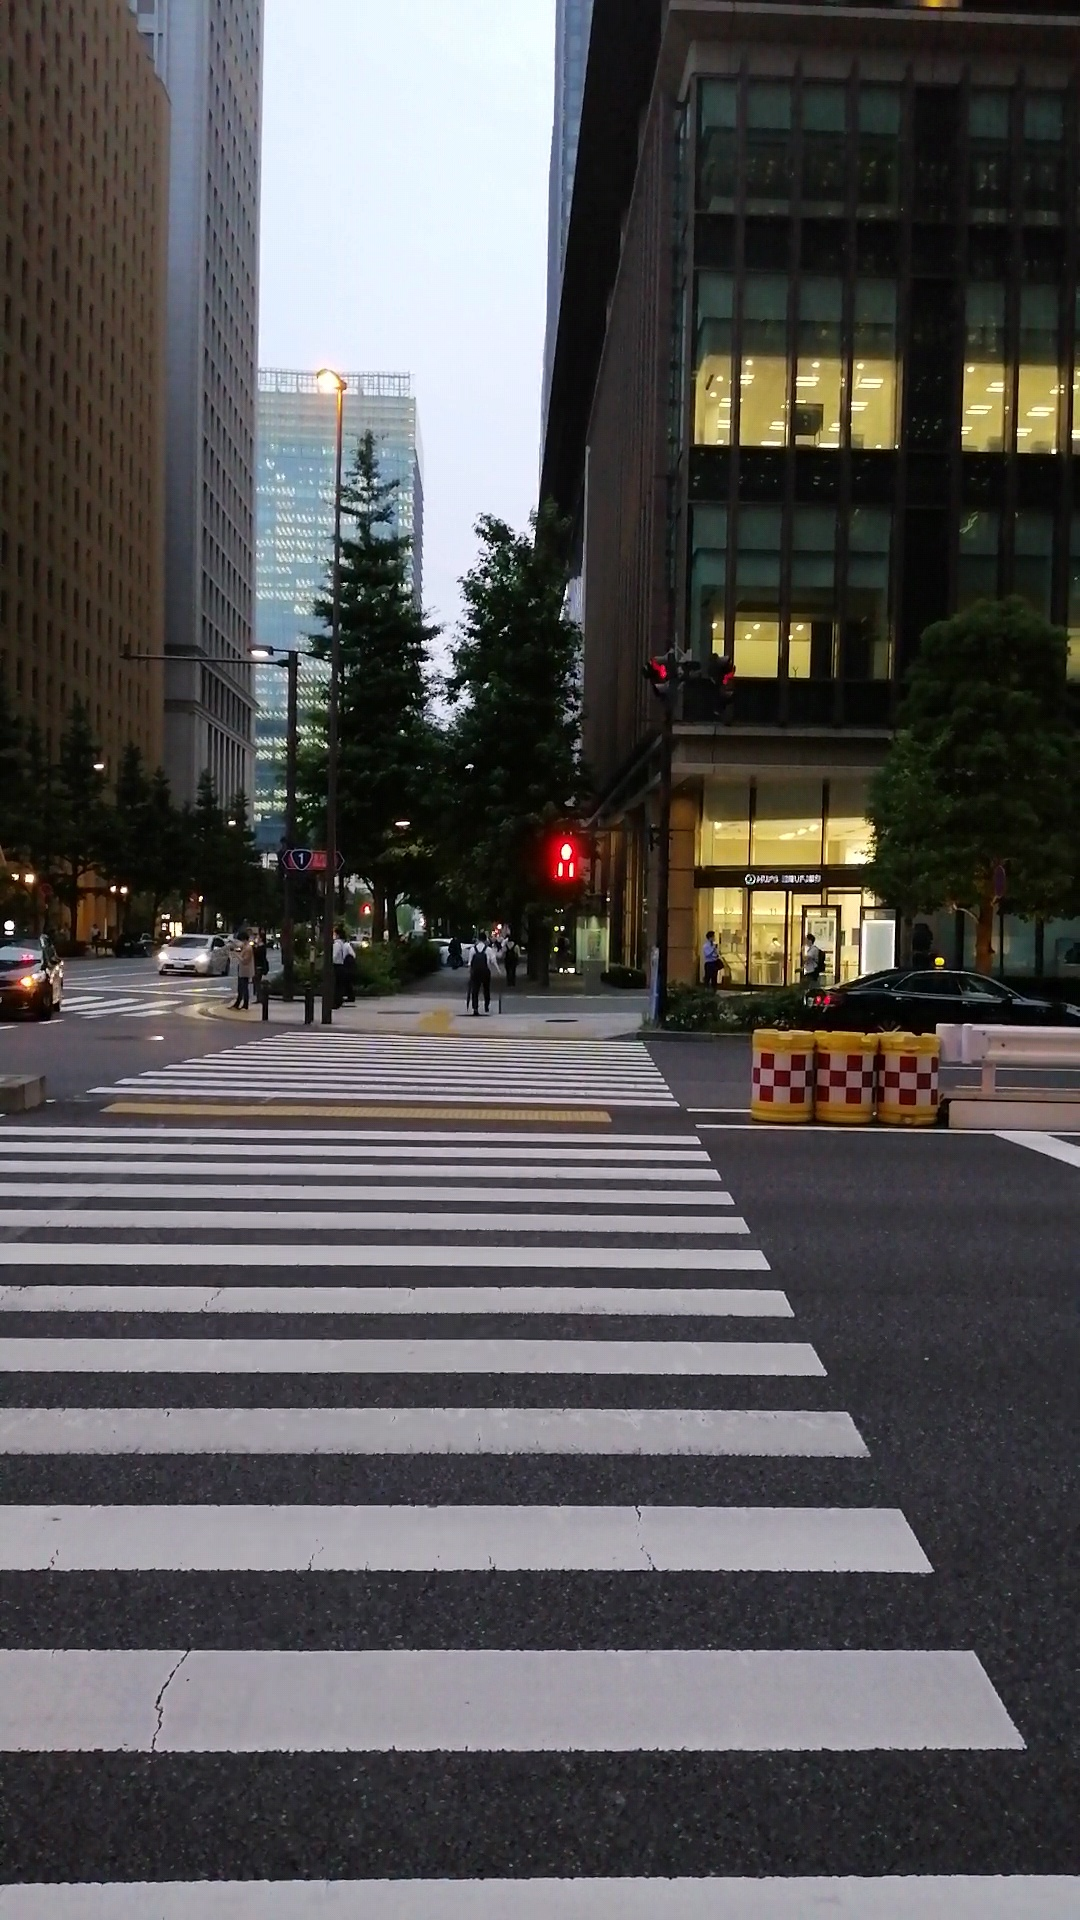red: (547, 833, 579, 886)
